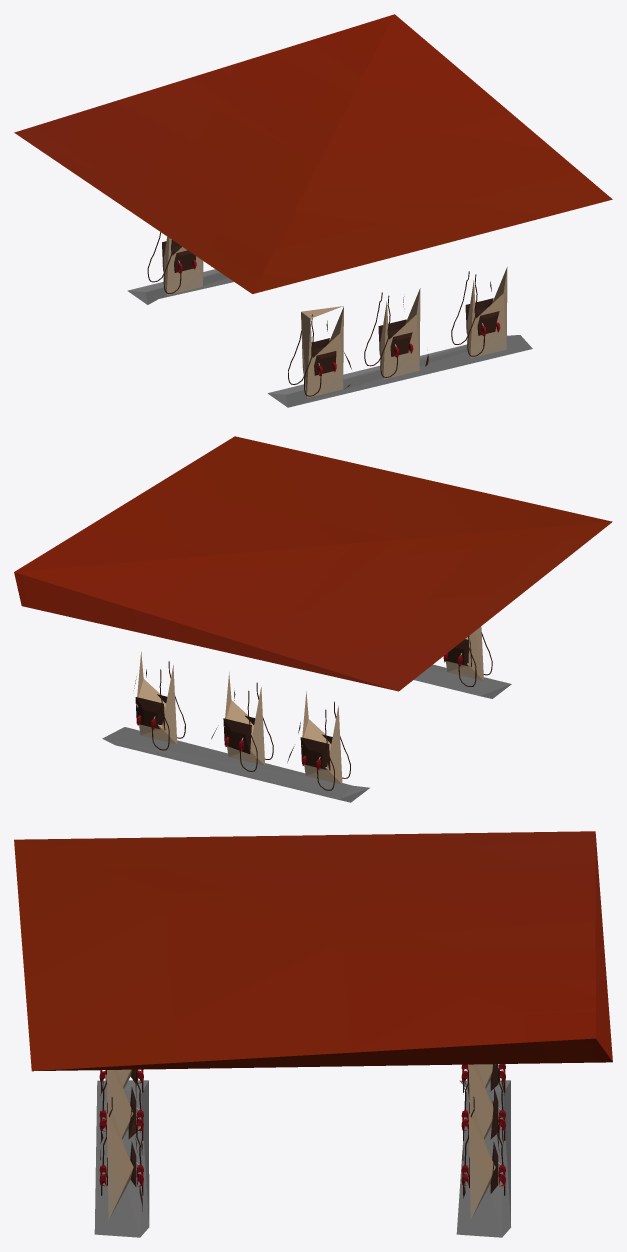
File: station-V9JeWMxe.glb
3 views of the same model, one above another, from view 1: azimuth 30°, elevation 25°; view 2: azimuth 150°, elevation 25°; view 3: azimuth 270°, elevation 25° (orthographic). The views are drawn at different scales.
Parts seen in each view (by area): view 1: station, base_1, socle_station_1, socle_pistolet_1, pistolet_1; view 2: station, socle_station_1, base_1, socle_pistolet_1, pistolet; view 3: station, socle_station_1, base_1, socle_pistolet_1, pistolet, pistolet_1, pistolet_2, pistolet_4.
Part boxes in pixels (x1=…): station: x1=14, y1=14, x2=612, y2=293; base_1: x1=162, y1=237, x2=507, y2=398; socle_station_1: x1=127, y1=269, x2=532, y2=407; socle_pistolet_1: x1=162, y1=240, x2=499, y2=375; pistolet_1: x1=163, y1=240, x2=486, y2=396; station: x1=14, y1=436, x2=612, y2=691; socle_station_1: x1=102, y1=664, x2=511, y2=802; base_1: x1=136, y1=626, x2=483, y2=784; socle_pistolet_1: x1=135, y1=636, x2=471, y2=770; pistolet: x1=151, y1=636, x2=476, y2=790; station: x1=14, y1=831, x2=612, y2=1071; socle_station_1: x1=94, y1=1080, x2=510, y2=1237; base_1: x1=106, y1=1064, x2=495, y2=1219; socle_pistolet_1: x1=107, y1=1064, x2=498, y2=1193; pistolet: x1=130, y1=1064, x2=505, y2=1195; pistolet_1: x1=99, y1=1064, x2=474, y2=1195; pistolet_2: x1=132, y1=1064, x2=505, y2=1211; pistolet_4: x1=99, y1=1070, x2=469, y2=1198.
Size of the model in its own units: 1255 by 574 by 1323.
